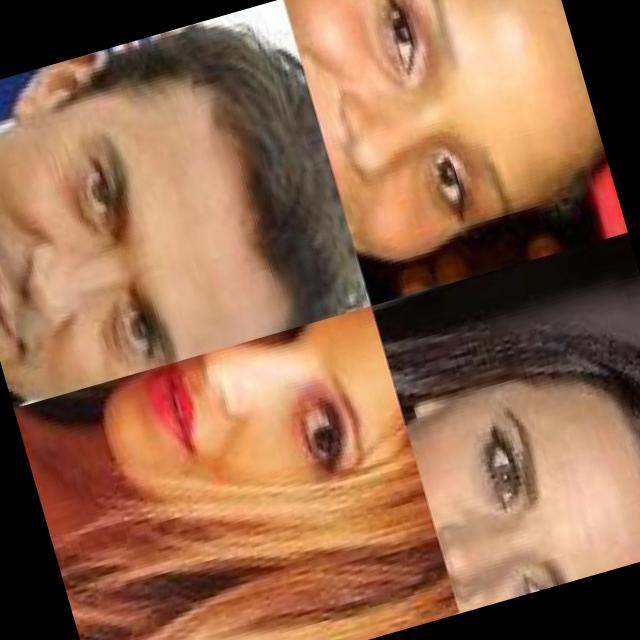bareface: (0, 1, 357, 401)
